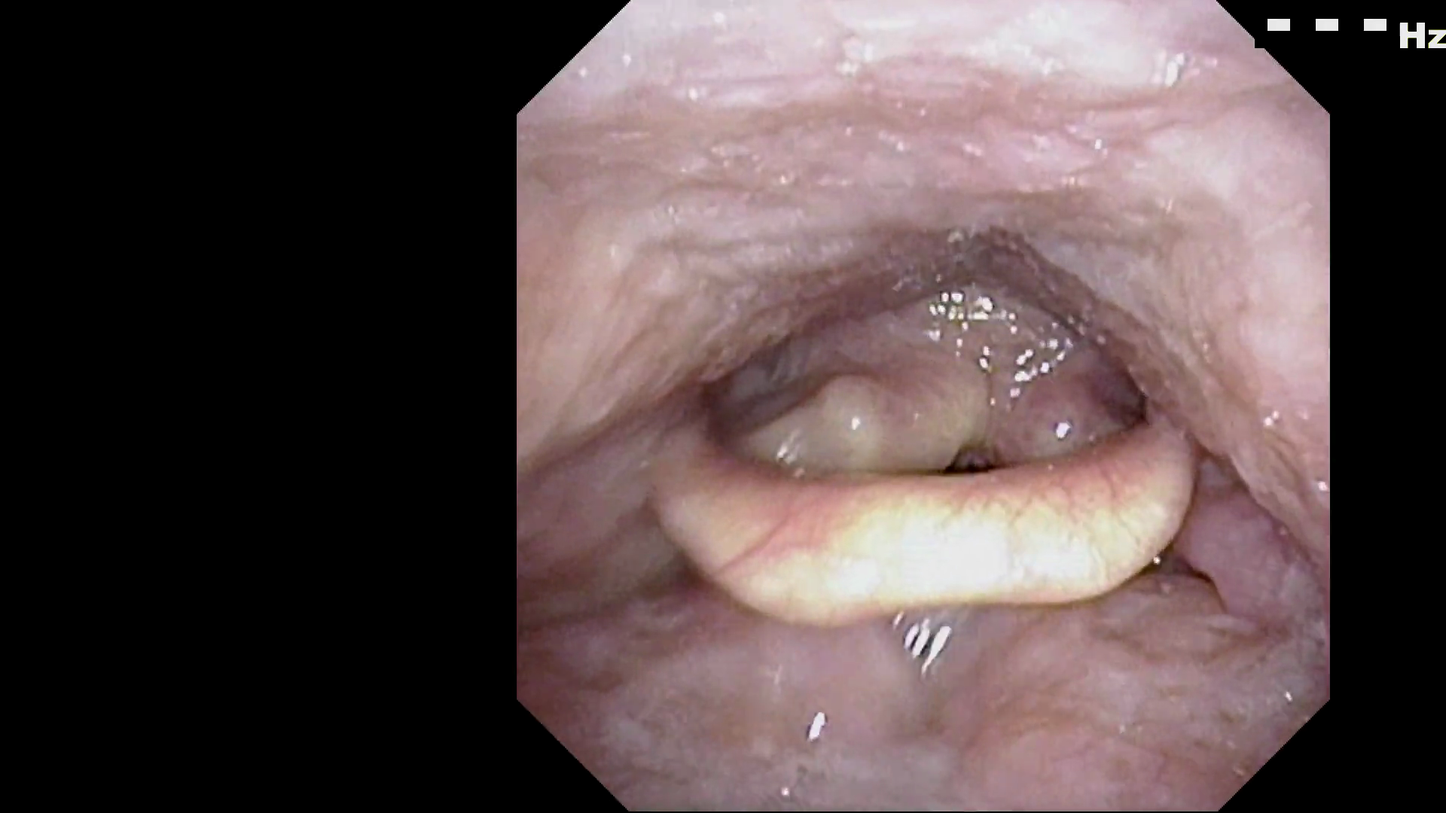epiglottis: (646, 390, 1219, 658)
trachea: (936, 428, 1017, 515)
